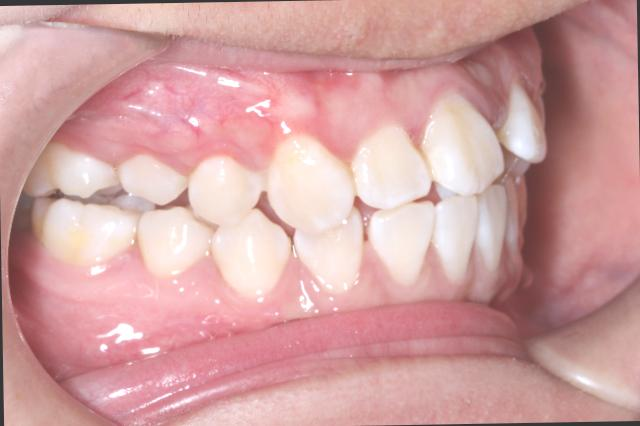canine class II 1/4: (212, 126, 368, 300)
molar class I: (25, 138, 141, 278)
